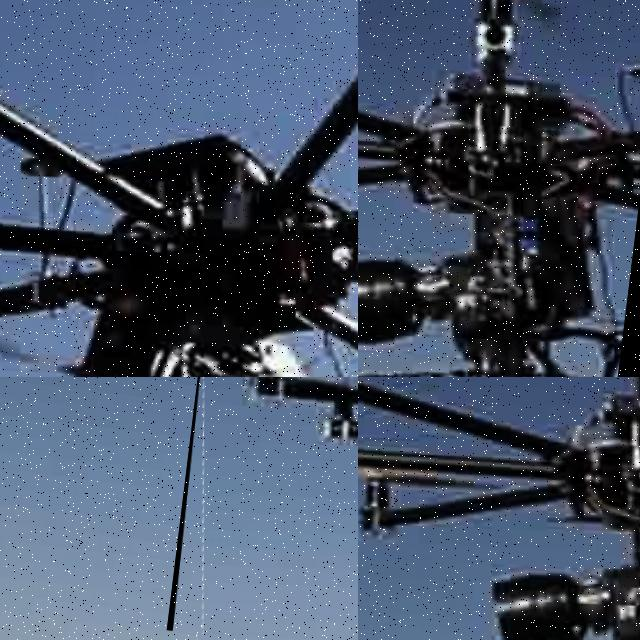drone: (0, 0, 358, 377), (358, 0, 640, 377), (358, 377, 640, 640), (166, 377, 358, 640)
